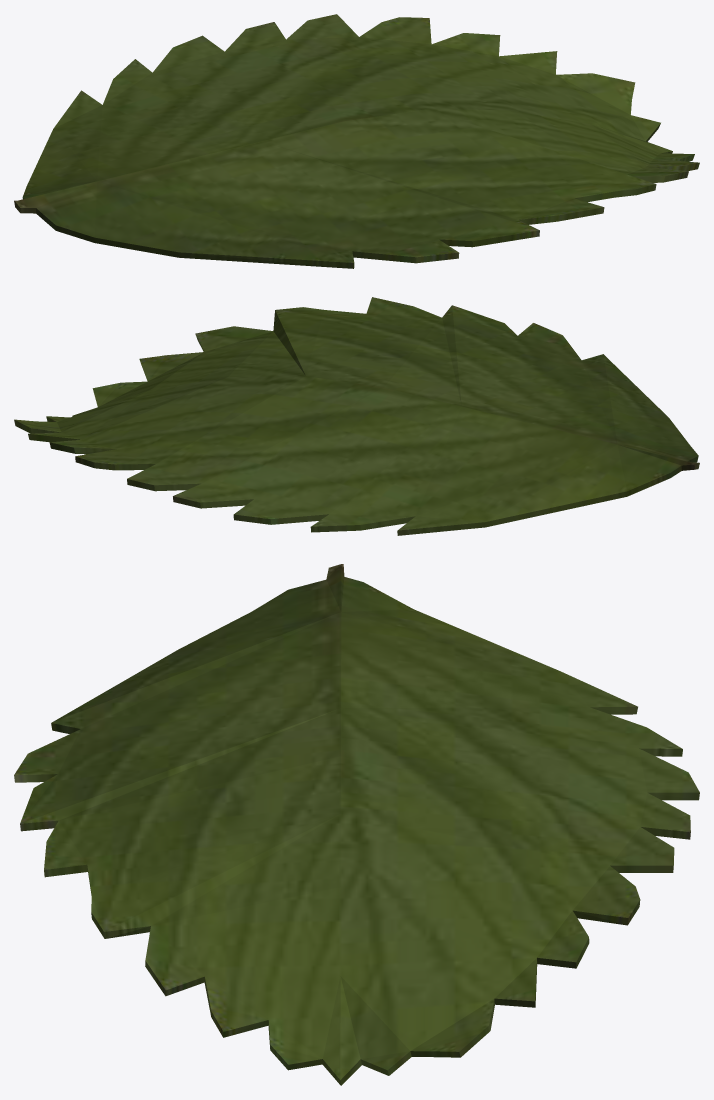
The model's file is leaf4_g1.dae.
3 renders of one model, top to bottom at view 1: azimuth 30°, elevation 25°; view 2: azimuth 150°, elevation 25°; view 3: azimuth 270°, elevation 25°, orthographic. The views are drawn at different scales.
Parts seen in each view (by area): view 1: Plane; view 2: Plane; view 3: Plane.
Boxes of the visible parts, x1,y1,x2,y2 form: Plane: [14, 14, 699, 268]; Plane: [14, 297, 699, 535]; Plane: [14, 564, 699, 1085].
Bounding box in the file's own units: 0.1374 × 0.1018 × 0.0227.
1 material, 1 textured.
